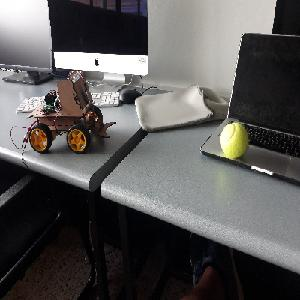Ball: (219, 123, 248, 158)
Robot: (26, 70, 116, 154)
